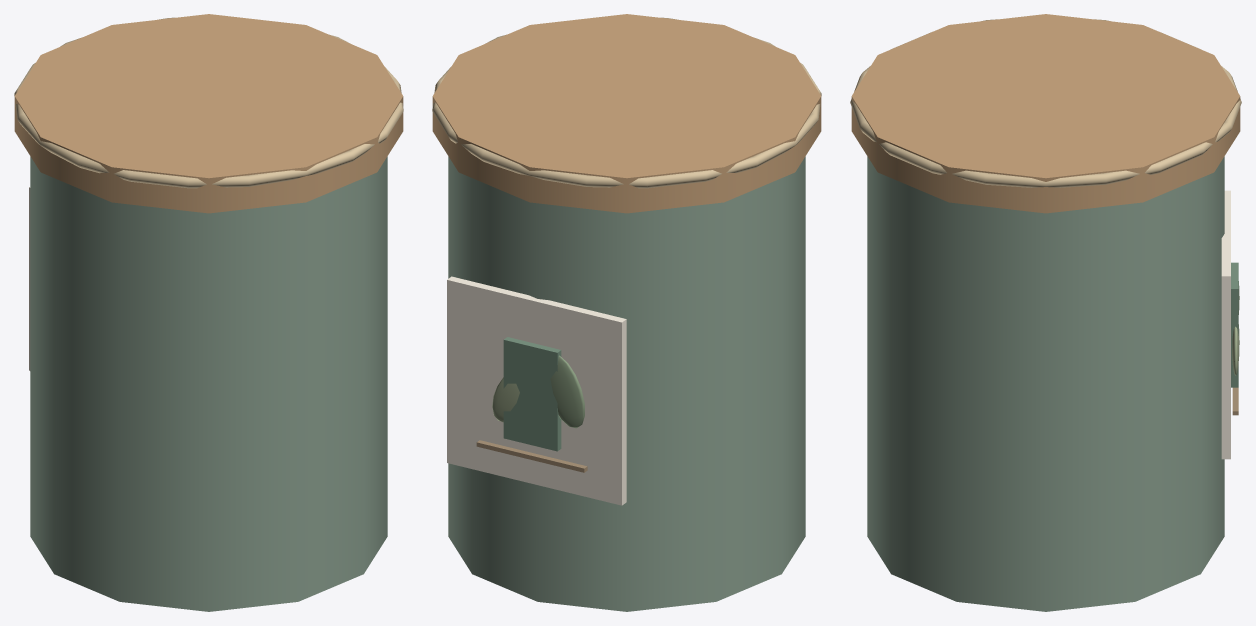
Rendered from product-off.tea.glb.
3 renders of one model, left to right at view 1: azimuth 30°, elevation 25°; view 2: azimuth 150°, elevation 25°; view 3: azimuth 270°, elevation 25°, orthographic.
Parts seen in each view (by area): view 1: product-off.tea; view 2: product-off.tea; view 3: product-off.tea.
Boxes of the visible parts, <box> form: product-off.tea: <box>14,14,403,611</box>; product-off.tea: <box>432,14,821,611</box>; product-off.tea: <box>850,14,1241,611</box>.
Bounding box in the file's own units: 0.252 × 0.3125 × 0.252.
